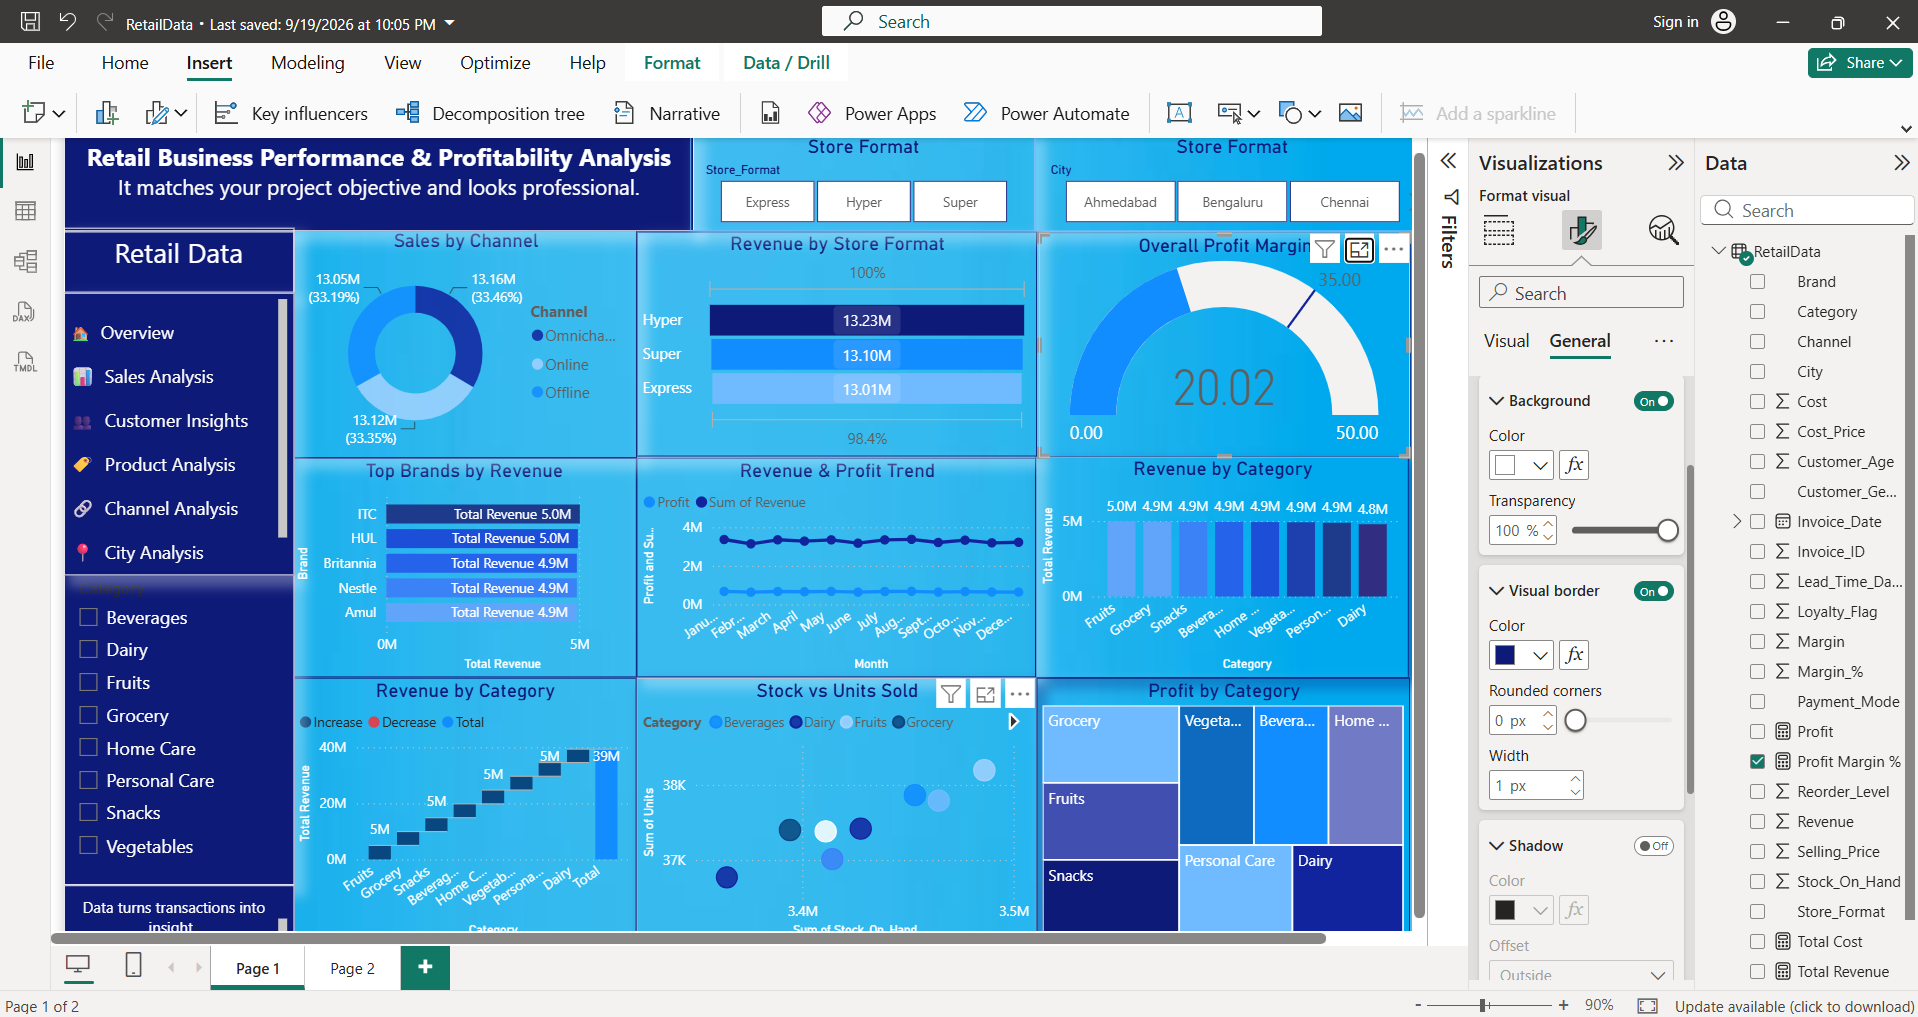

This screenshot's page, from the dashboard's own definition file:
{"tool":"powerbi","page":{"name":"Page 1","canvas":[1280,720],"ordinal":0},"visuals":[{"type":"image","box":[118.9,76.7,67.8,57.8],"z":4000},{"type":"image","box":[100,346.7,104.4,123.3],"z":5000},{"type":"clusteredColumnChart","title":"Revenue by Category","fields":{"Category":["RetailData.Category"],"Y":["RetailData.Total Revenue"]},"box":[863.3,286.7,332.2,196.7],"z":8000},{"type":"lineChart","title":"Revenue & Profit Trend","fields":{"Y":["RetailData.Profit","Sum(RetailData.Revenue)"],"Category":["RetailData.Invoice_Date.Variation.Date Hierarchy.Month"]},"box":[508.9,287.8,355.6,195.6],"z":9000},{"type":"clusteredBarChart","title":"Top Brands by Revenue","fields":{"Category":["RetailData.Brand"],"Y":["RetailData.Total Revenue"]},"box":[201.1,287.8,307.8,195.6],"z":10000},{"type":"donutChart","title":"Sales by Channel","fields":{"Category":["RetailData.Channel"],"Y":["RetailData.Total Revenue"]},"box":[204.4,83.3,304.4,204.4],"z":11000},{"type":"scatterChart","title":"Stock vs Units Sold","fields":{"X":["Sum(RetailData.Stock_On_Hand)"],"Y":["Sum(RetailData.Units)"],"Size":["Sum(RetailData.Revenue)"],"Series":["RetailData.Category"]},"box":[508.9,483.3,355.6,236.7],"z":12000},{"type":"textbox","box":[0,0,560,86.7],"z":13000},{"type":"waterfallChart","title":"Revenue by Category","fields":{"Category":["RetailData.Category"],"Y":["RetailData.Total Revenue"]},"box":[203.3,483.3,305.6,236.7],"z":16000},{"type":"textbox","box":[0,86.7,204.4,633.3],"z":18000},{"type":"textbox","box":[0,83.3,204.4,57.8],"z":19000},{"type":"slicer","fields":{"Values":["RetailData.Category"]},"box":[0,390,204.4,277.8],"z":19001},{"type":"textbox","box":[0,141.1,204.4,251.1],"z":19002},{"type":"textbox","box":[0,667.8,204.4,52.2],"z":19003},{"type":"treemap","title":"Profit by Category","fields":{"Values":["RetailData.Profit"],"Group":["RetailData.Category"]},"box":[864.4,483.3,332.2,236.7],"z":19004},{"type":"funnel","title":"Revenue by Store Format","fields":{"Category":["RetailData.Store_Format"],"Y":["RetailData.Total Revenue"]},"box":[509,87,356,200],"z":19005},{"type":"gauge","title":"Overall Profit Margin","fields":{"Y":["RetailData.Profit Margin %"]},"box":[866.7,87.8,330,200],"z":19006},{"type":"slicer","title":"Store Format","fields":{"Values":["RetailData.Store_Format"]},"box":[556.7,0,306.7,86.7],"z":19007},{"type":"slicer","title":"Store Format","fields":{"Values":["RetailData.City"]},"box":[863.3,0,348.9,86.7],"z":19008}]}

Visuals, with their boxes on the page's 1280x720 design canvas (x1, y1, x2, y2). These are canvas units, not pixel positions in the 1918x1017 screenshot, which may show the page scaled, cropped or inside an application window:
image: select_region(119, 77, 187, 134)
image: select_region(100, 347, 204, 470)
"Revenue by Category" clusteredColumnChart: select_region(863, 287, 1196, 483)
"Revenue & Profit Trend" lineChart: select_region(509, 288, 864, 483)
"Top Brands by Revenue" clusteredBarChart: select_region(201, 288, 509, 483)
"Sales by Channel" donutChart: select_region(204, 83, 509, 288)
"Stock vs Units Sold" scatterChart: select_region(509, 483, 864, 720)
textbox: select_region(0, 0, 560, 87)
"Revenue by Category" waterfallChart: select_region(203, 483, 509, 720)
textbox: select_region(0, 87, 204, 720)
textbox: select_region(0, 83, 204, 141)
slicer - RetailData.Category: select_region(0, 390, 204, 668)
textbox: select_region(0, 141, 204, 392)
textbox: select_region(0, 668, 204, 720)
"Profit by Category" treemap: select_region(864, 483, 1197, 720)
"Revenue by Store Format" funnel: select_region(509, 87, 865, 287)
"Overall Profit Margin" gauge: select_region(867, 88, 1197, 288)
"Store Format" slicer: select_region(557, 0, 863, 87)
"Store Format" slicer: select_region(863, 0, 1212, 87)
